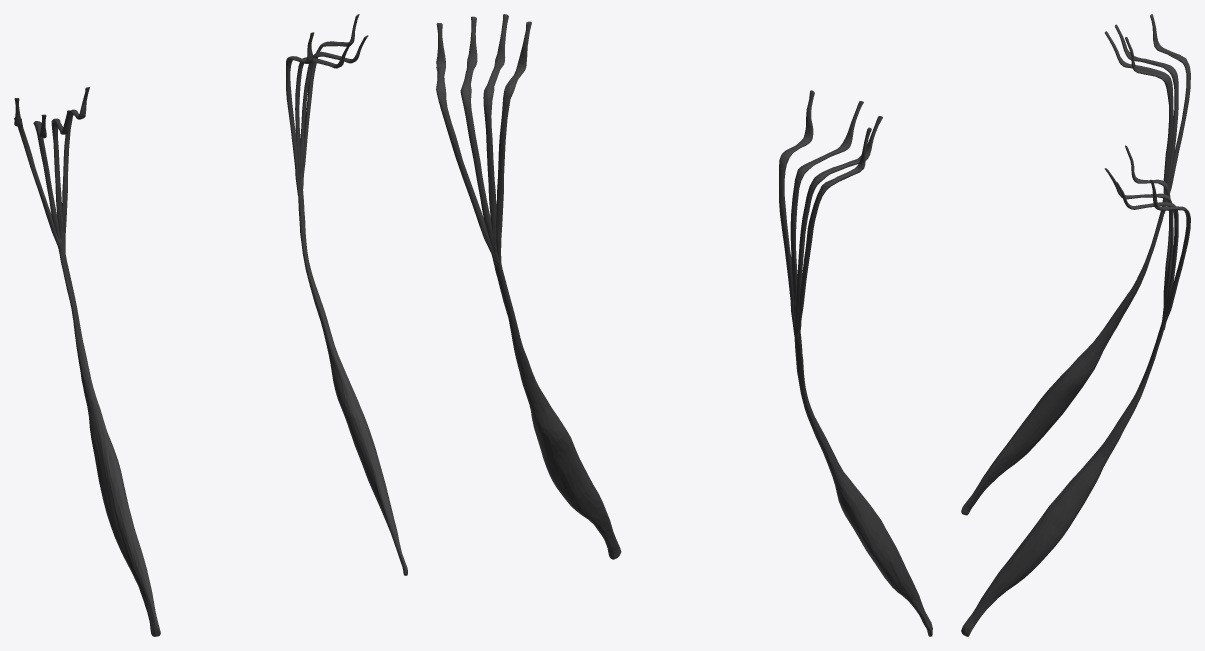
Rendered from m_extensor_digitorum_longus.glb.
The picture shows the model from 3 angles, left to right: view 1: azimuth 30°, elevation 25°; view 2: azimuth 150°, elevation 25°; view 3: azimuth 270°, elevation 25°; orthographic projection. The views are drawn at different scales.
Visible parts, largest first — view 1: m_extensor_digitorum_longus; view 2: m_extensor_digitorum_longus; view 3: m_extensor_digitorum_longus.
Boxes of the visible parts, left/top/right/bottom form: m_extensor_digitorum_longus: left=14, top=14, right=407, bottom=636; m_extensor_digitorum_longus: left=436, top=14, right=932, bottom=636; m_extensor_digitorum_longus: left=961, top=14, right=1190, bottom=636.
Bounding box in the file's own units: 0.07 × 0.0947 × 0.0407.
1 material, 1 textured.
